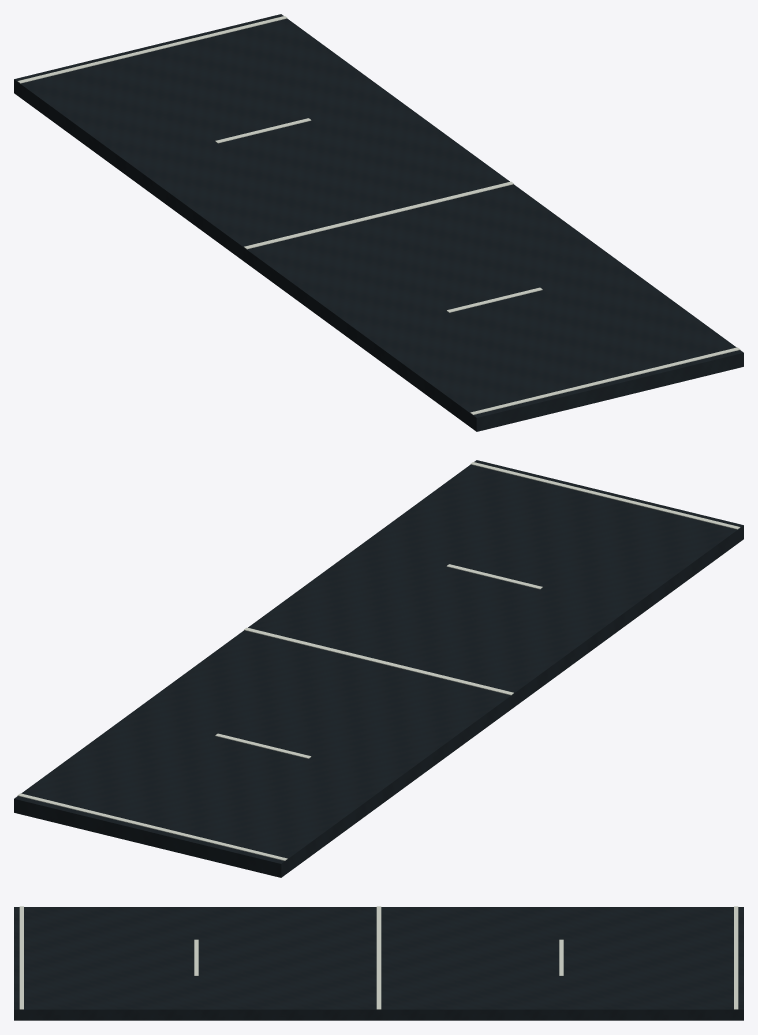
The model's file is Transit_Road_4L_Straight_4m.glb.
3 views of the same model, one above another, from view 1: azimuth 30°, elevation 25°; view 2: azimuth 150°, elevation 25°; view 3: azimuth 270°, elevation 25° (orthographic). The views are drawn at different scales.
Parts seen in each view (by area): view 1: Transit_Road_4L_Straight_4m_Surface, Transit_Road_4L_Straight_4m_MarkLane2, Transit_Road_4L_Straight_4m_MarkEdge-1, Transit_Road_4L_Straight_4m_MarkEdge+1; view 2: Transit_Road_4L_Straight_4m_Surface, Transit_Road_4L_Straight_4m_MarkLane2, Transit_Road_4L_Straight_4m_MarkEdge+1, Transit_Road_4L_Straight_4m_MarkEdge-1; view 3: Transit_Road_4L_Straight_4m_Surface, Transit_Road_4L_Straight_4m_MarkLane2, Transit_Road_4L_Straight_4m_MarkEdge-1, Transit_Road_4L_Straight_4m_MarkEdge+1.
Boxes of the visible parts, left/top/right/bottom form: Transit_Road_4L_Straight_4m_Surface: left=14, top=14, right=743, bottom=431; Transit_Road_4L_Straight_4m_MarkLane2: left=244, top=181, right=513, bottom=249; Transit_Road_4L_Straight_4m_MarkEdge-1: left=470, top=347, right=740, bottom=414; Transit_Road_4L_Straight_4m_MarkEdge+1: left=17, top=16, right=287, bottom=83; Transit_Road_4L_Straight_4m_Surface: left=14, top=460, right=743, bottom=877; Transit_Road_4L_Straight_4m_MarkLane2: left=244, top=627, right=513, bottom=695; Transit_Road_4L_Straight_4m_MarkEdge+1: left=17, top=793, right=287, bottom=860; Transit_Road_4L_Straight_4m_MarkEdge-1: left=470, top=462, right=740, bottom=529; Transit_Road_4L_Straight_4m_Surface: left=14, top=907, right=743, bottom=1020; Transit_Road_4L_Straight_4m_MarkLane2: left=376, top=906, right=381, bottom=1009; Transit_Road_4L_Straight_4m_MarkEdge-1: left=19, top=906, right=23, bottom=1009; Transit_Road_4L_Straight_4m_MarkEdge+1: left=734, top=906, right=738, bottom=1009.
Size of the model in its own units: 4 by 0.212 by 12.
Materials: 2 (1 with a texture image).
